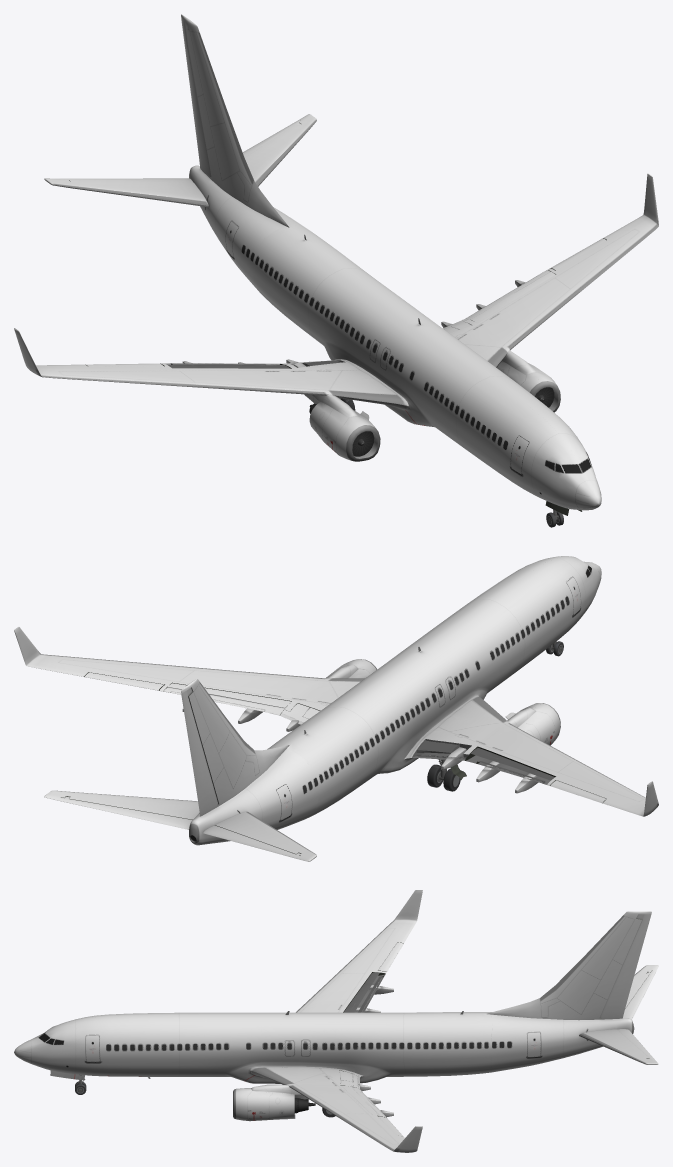
3 renders of one model, top to bottom at view 1: azimuth 30°, elevation 25°; view 2: azimuth 150°, elevation 25°; view 3: azimuth 270°, elevation 25°, orthographic. The views are drawn at different scales.
Visible parts, largest first — view 1: fuselage_Cylinder.017, engines_Cylinder.001, Tailplane_Cube, rudder.001_Cylinder.002, Tailplane.001_Cube.004; view 2: fuselage_Cylinder.017, Tailplane_Cube, engines_Cylinder.001, Tailplane.001_Cube.004, rudder.001_Cylinder.002, garing_b_Cube.003, flaps_4.002_Cylinder.006, flaps_4.009_Cylinder.030, gear.001_Cylinder.034, flaps_4.005_Cylinder.007, rudder.003_Cylinder.008, flaps_4.008_Cylinder.029; view 3: fuselage_Cylinder.017, engines_Cylinder.001, rudder.001_Cylinder.002, Tailplane_Cube, Tailplane.001_Cube.004, flaps_4.009_Cylinder.030, garing_b_Cube.003.
Part boxes in pixels (<box>): fuselage_Cylinder.017: <box>14,14,658,510</box>; engines_Cylinder.001: <box>304,350,560,461</box>; Tailplane_Cube: <box>44,114,316,207</box>; rudder.001_Cylinder.002: <box>181,18,211,177</box>; Tailplane.001_Cube.004: <box>59,120,300,182</box>; fuselage_Cylinder.017: <box>14,556,658,845</box>; Tailplane_Cube: <box>44,790,316,861</box>; engines_Cylinder.001: <box>326,659,560,745</box>; Tailplane.001_Cube.004: <box>58,796,300,858</box>; rudder.001_Cylinder.002: <box>181,688,218,814</box>; garing_b_Cube.003: <box>182,708,538,793</box>; flaps_4.002_Cylinder.006: <box>168,683,291,708</box>; flaps_4.009_Cylinder.030: <box>470,747,555,780</box>; gear.001_Cylinder.034: <box>427,764,460,791</box>; flaps_4.005_Cylinder.007: <box>163,687,286,715</box>; rudder.003_Cylinder.008: <box>85,672,164,690</box>; flaps_4.008_Cylinder.029: <box>465,753,550,784</box>; fuselage_Cylinder.017: <box>14,890,651,1152</box>; engines_Cylinder.001: <box>233,1084,315,1121</box>; rudder.001_Cylinder.002: <box>599,914,651,1018</box>; Tailplane_Cube: <box>579,965,658,1064</box>; Tailplane.001_Cube.004: <box>617,971,655,1060</box>; flaps_4.009_Cylinder.030: <box>343,972,379,1012</box>; garing_b_Cube.003: <box>355,985,393,1117</box>.
Size of the model in its own units: 4.37 by 1.57 by 5.04.
1 material, 1 textured.
